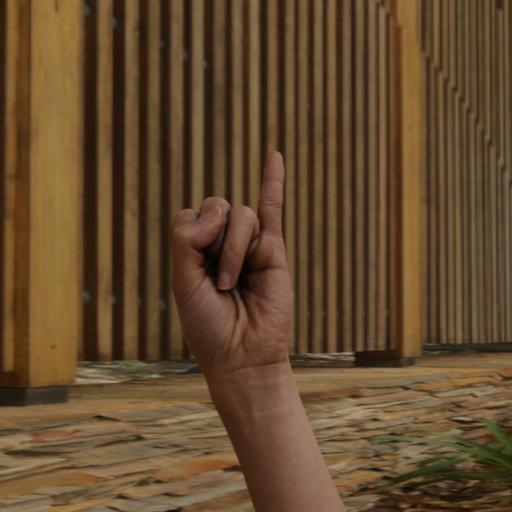I: (138, 127, 377, 402)
